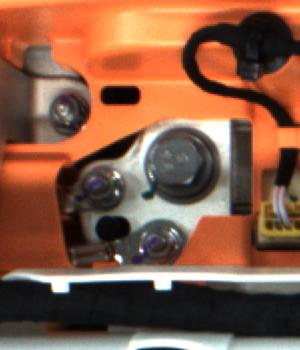nut_b: (142, 129, 223, 205)
screw_s: (140, 223, 179, 263), (45, 96, 83, 129), (85, 169, 122, 200)
